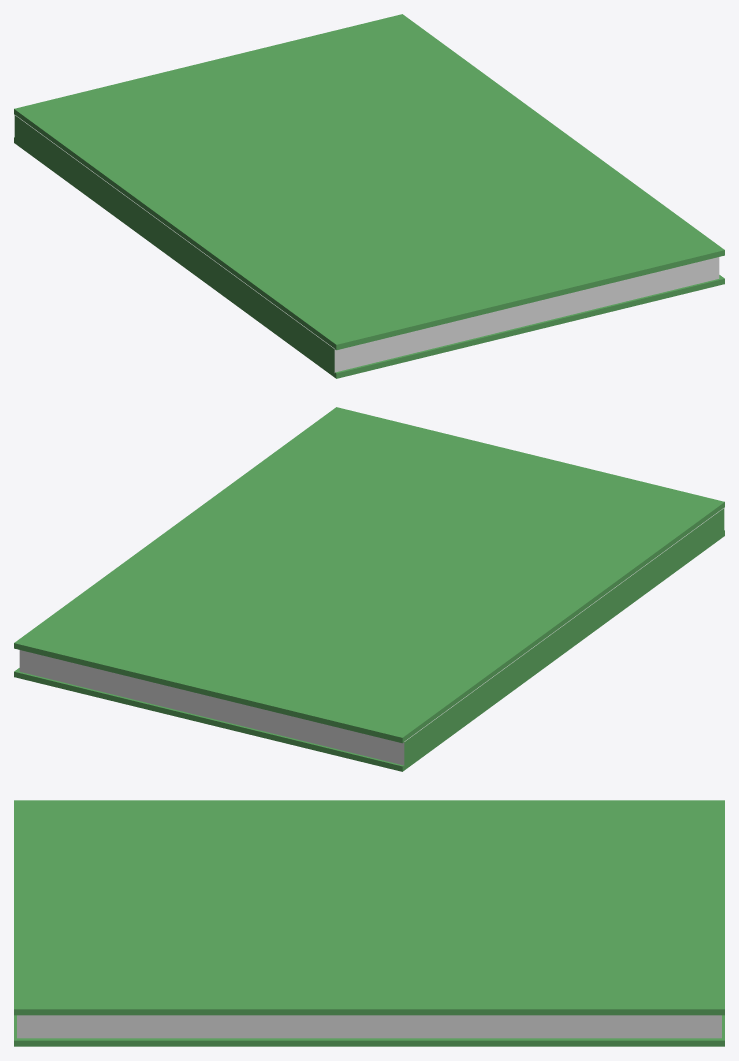
Rendered from book.fbx.
3 views of the same model, one above another, from view 1: azimuth 30°, elevation 25°; view 2: azimuth 150°, elevation 25°; view 3: azimuth 270°, elevation 25° (orthographic). The views are drawn at different scales.
Parts seen in each view (by area): view 1: pCube4; view 2: pCube4; view 3: pCube4.
Boxes of the visible parts, left/top/right/bottom form: pCube4: left=14, top=14, right=724, bottom=378; pCube4: left=14, top=407, right=724, bottom=771; pCube4: left=14, top=800, right=724, bottom=1046.
Bounding box in the file's own units: 8.08 × 0.6755 × 11.6.
